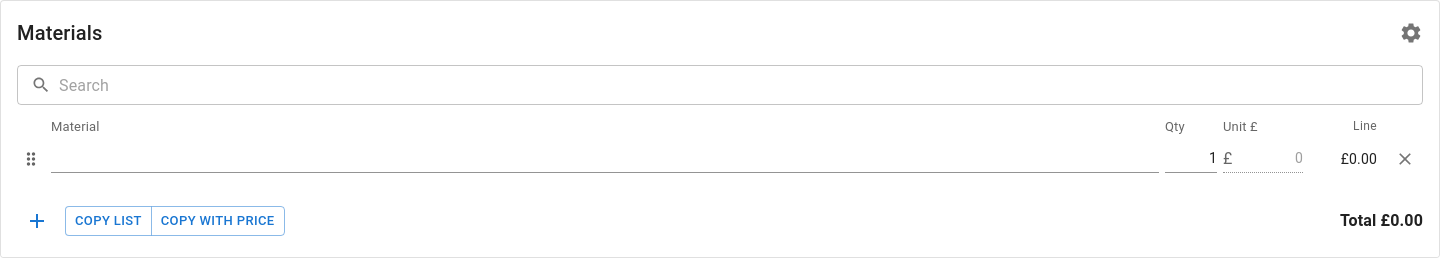
Test case: editing a material name › still reads an explicitly typed quantity prefix
Type "12x screws" into the dropdown named "Material name" at (605, 158), box [51,144,1159,172]
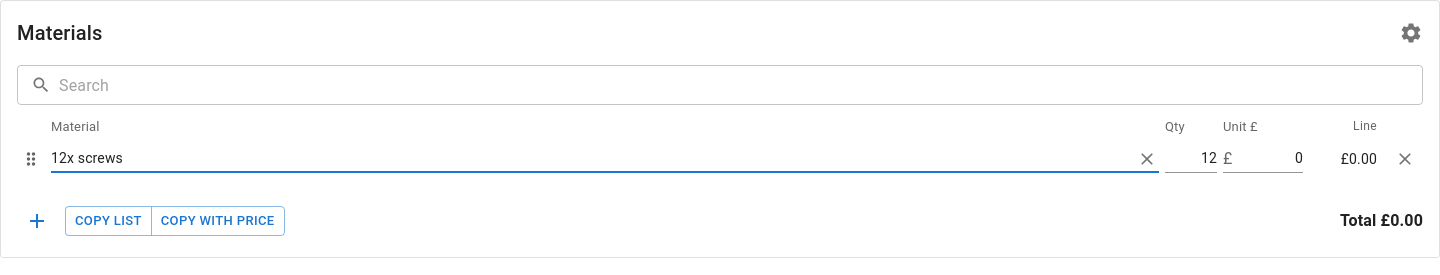
expect the field named "Quantity for" holds "12": met, box [1165,144,1217,173]
